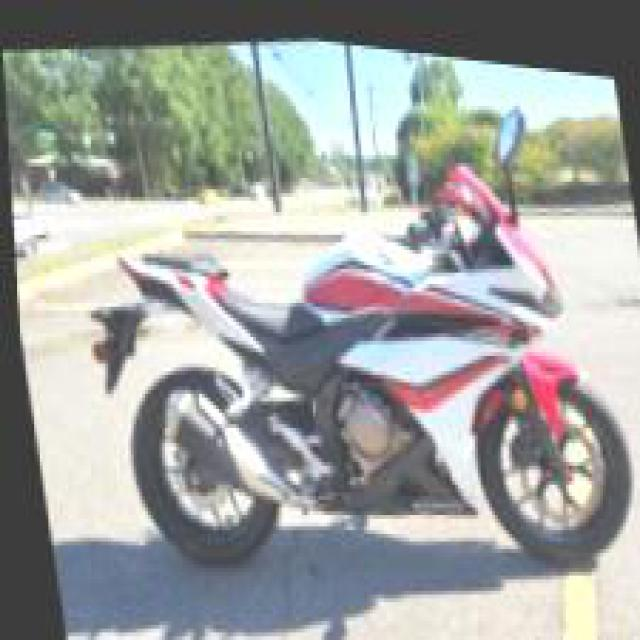CBR500R: (77, 87, 637, 629)
